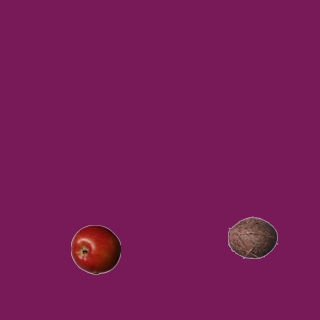Apple Braeburn: (70, 224, 120, 274)
Cocos: (227, 212, 277, 262)
